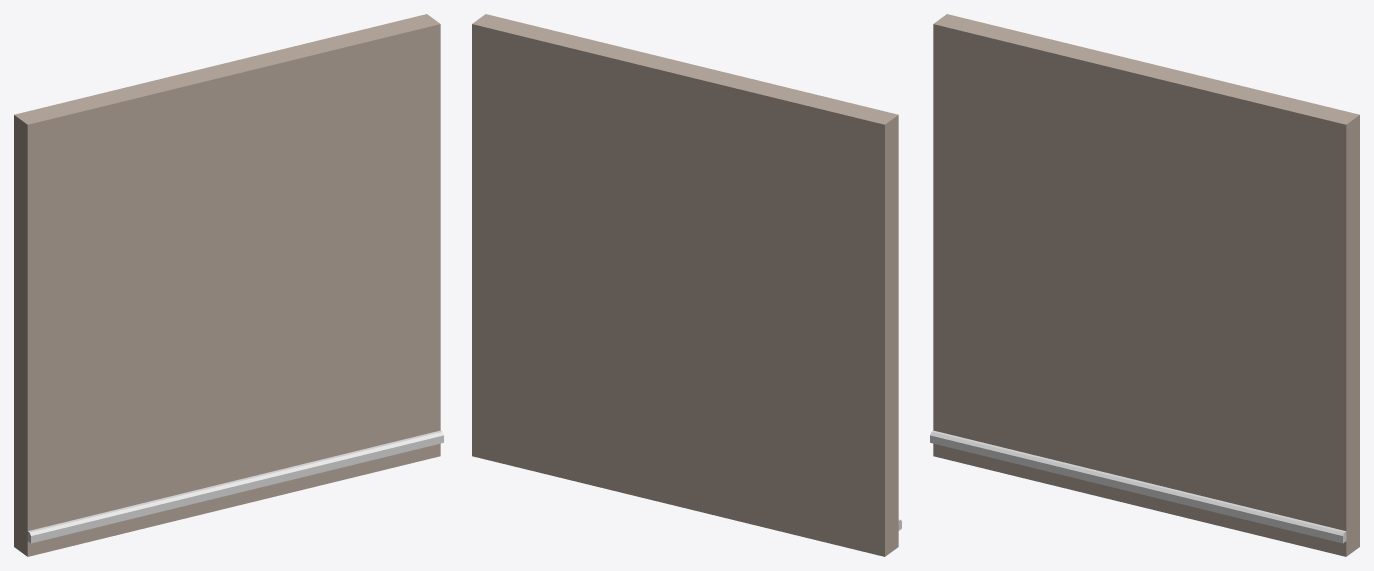
File: WallFloor2_17_dra.glb
3 renders of one model, left to right at view 1: azimuth 30°, elevation 25°; view 2: azimuth 150°, elevation 25°; view 3: azimuth 330°, elevation 25°, orthographic.
Parts seen in each view (by area): view 1: WallFloor2_17; view 2: WallFloor2_17; view 3: WallFloor2_17.
Part boxes in pixels (<box>): WallFloor2_17: <box>14,14,443,556</box>; WallFloor2_17: <box>472,14,901,556</box>; WallFloor2_17: <box>930,14,1359,556</box>.
Bounding box in the file's own units: 2.5 × 2.5 × 0.1783.
Materials: 1 (1 with a texture image).
